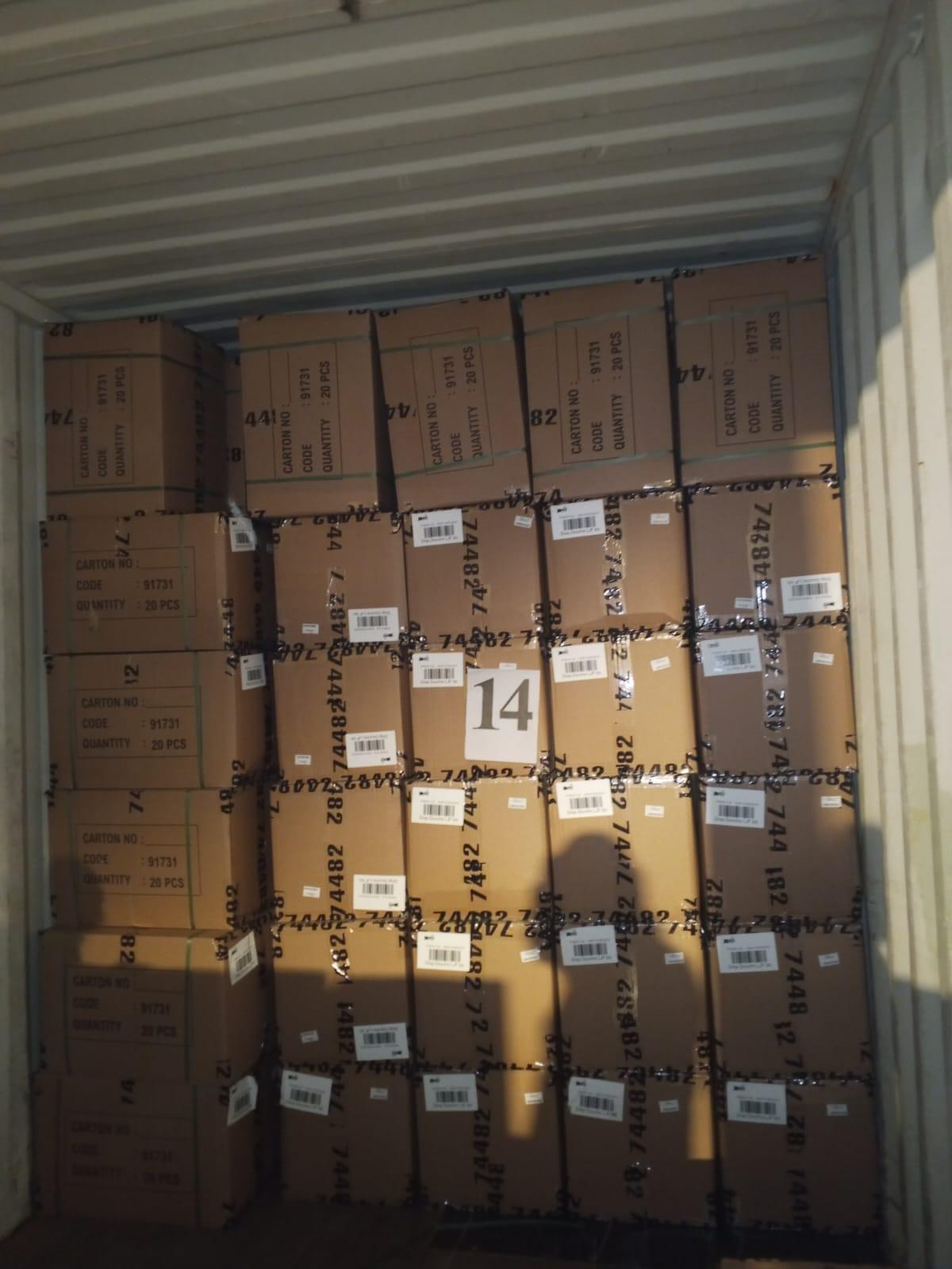carton: (674, 258, 836, 482), (44, 316, 225, 516), (33, 1072, 259, 1229), (40, 928, 267, 1084), (522, 278, 674, 498), (377, 293, 531, 510), (41, 513, 265, 654), (240, 311, 392, 517), (48, 788, 267, 930), (48, 651, 267, 790), (718, 1080, 880, 1239), (710, 923, 872, 1079), (696, 621, 856, 775), (701, 773, 862, 922), (565, 1068, 716, 1226), (689, 477, 846, 628), (557, 922, 708, 1072), (549, 778, 701, 922), (542, 493, 689, 641), (413, 920, 556, 1070), (416, 1070, 561, 1216), (407, 779, 551, 923), (551, 635, 696, 777), (404, 501, 543, 646), (272, 922, 412, 1065), (410, 640, 549, 781), (269, 780, 406, 922), (281, 1063, 413, 1206), (274, 644, 410, 780), (274, 512, 408, 646)
